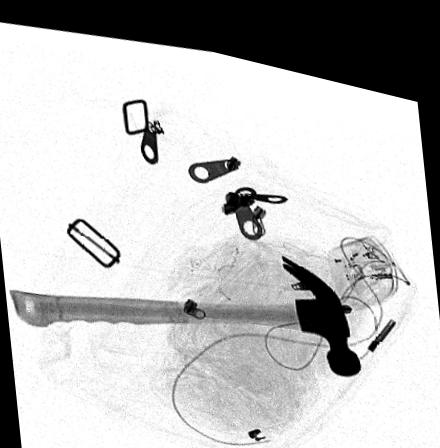Hammer: (9, 238, 363, 361)
